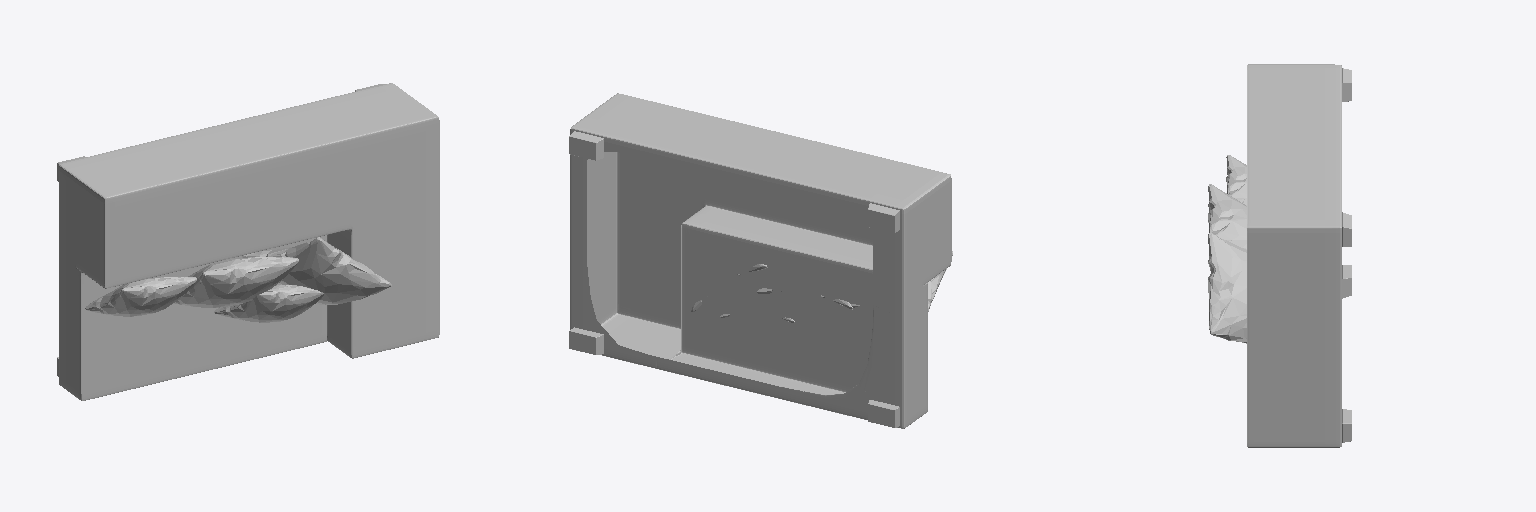
The model's file is Sofa HollyWood OBJ.obj.
The picture shows the model from 3 angles: view 1: azimuth 30°, elevation 25°; view 2: azimuth 150°, elevation 25°; view 3: azimuth 270°, elevation 25°; orthographic projection.
Visible parts, largest first — view 1: Box01, Box02; view 2: Box01, Box02; view 3: Box01, Box02.
Boxes of the visible parts, box(x1,y1,x2,y2) form: Box01: box(57, 83, 439, 400); Box02: box(57, 84, 439, 400); Box01: box(569, 93, 952, 428); Box02: box(569, 94, 952, 428); Box01: box(1208, 64, 1351, 447); Box02: box(1208, 64, 1351, 447).
Bounding box in the file's own units: 1900 × 1200 × 712.